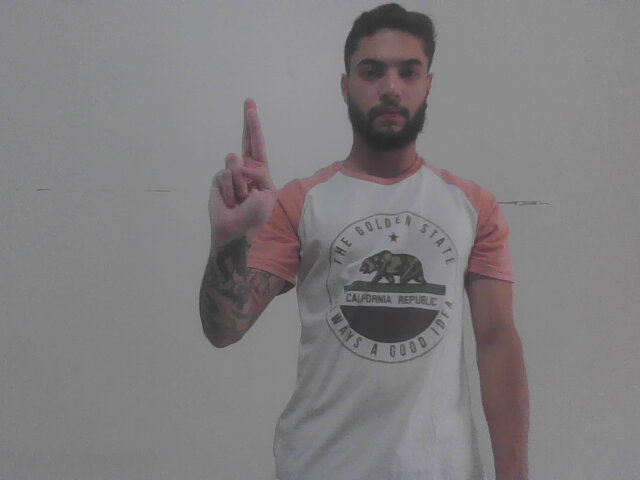r: (200, 96, 284, 247)
